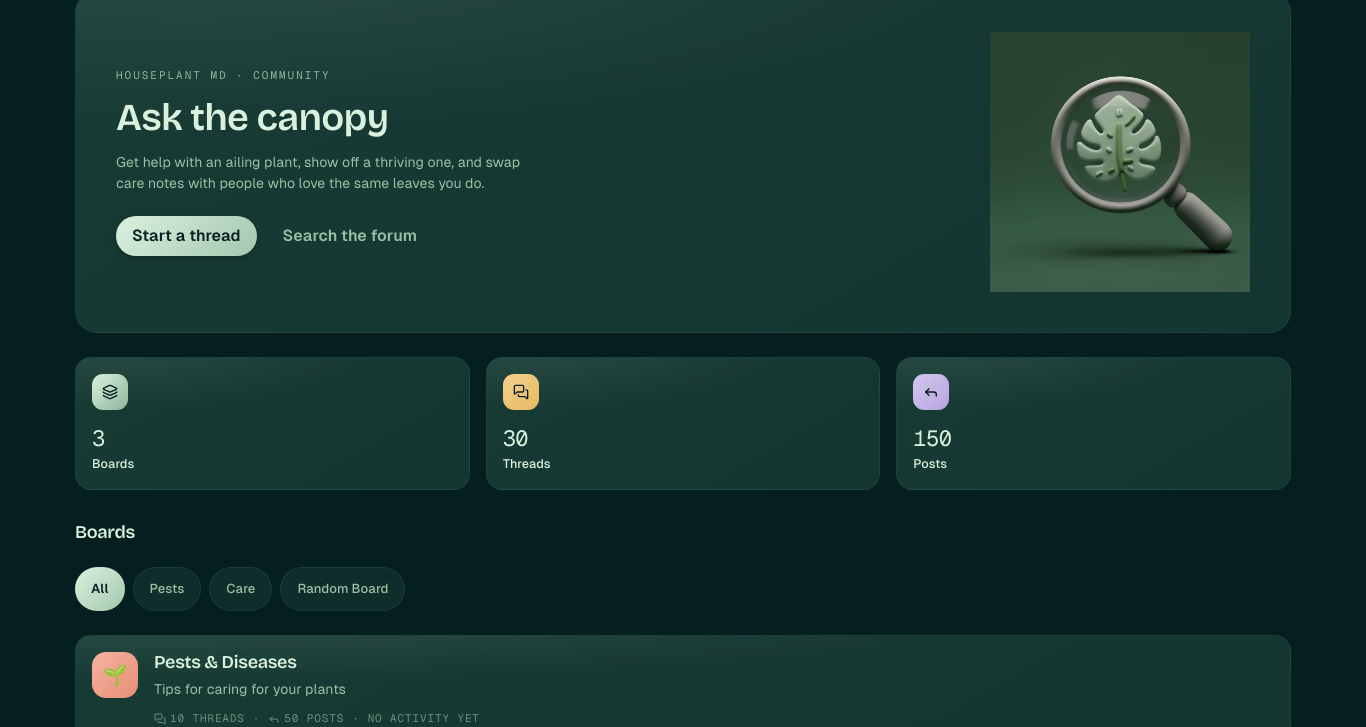
it: CategoryListPage › board filter chips › restores the full list when All is clicked after filtering
This screenshot has width=1366, height=727.
Expected: the heading "Pests & Diseases" is shown, [154,651,296,673]
Click the button "Care": (241, 589) [209,567,272,611]
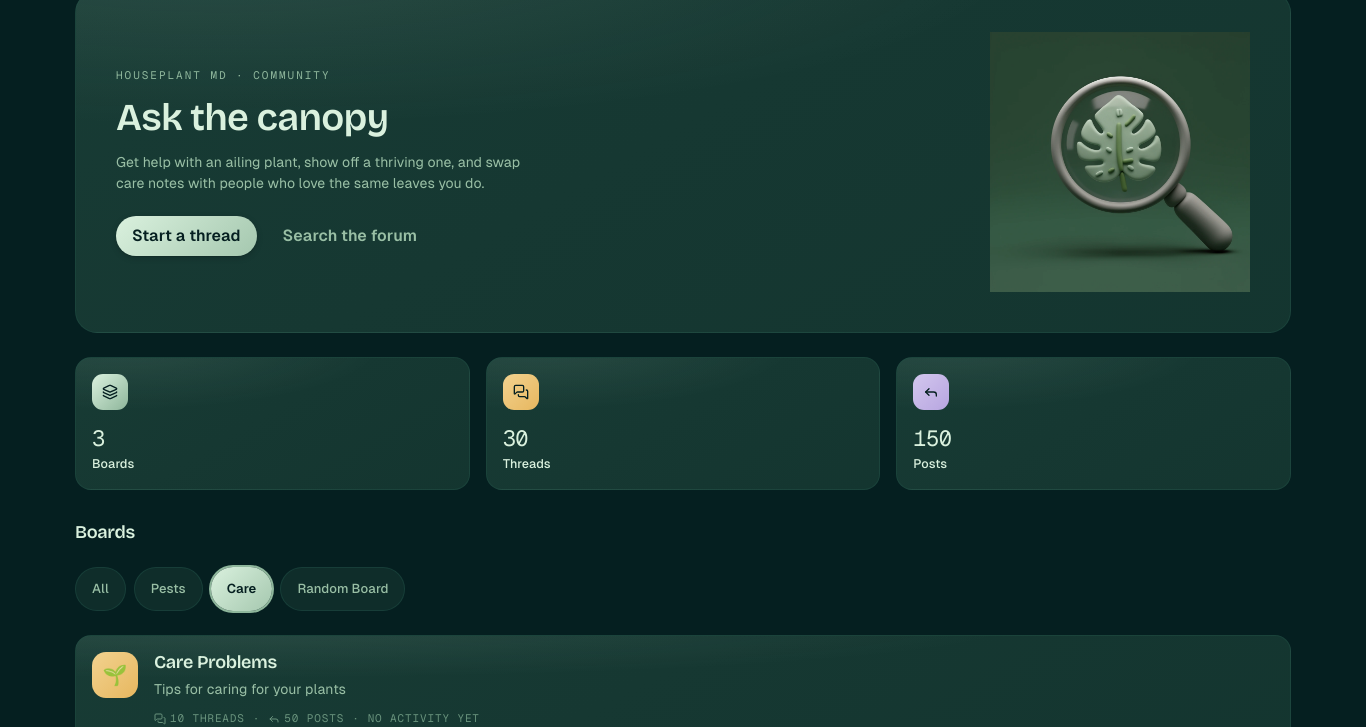
Expected: the link "Pests & Diseases" is gone
Click the button "All": (100, 589) [75,567,126,611]
(page scrolled)
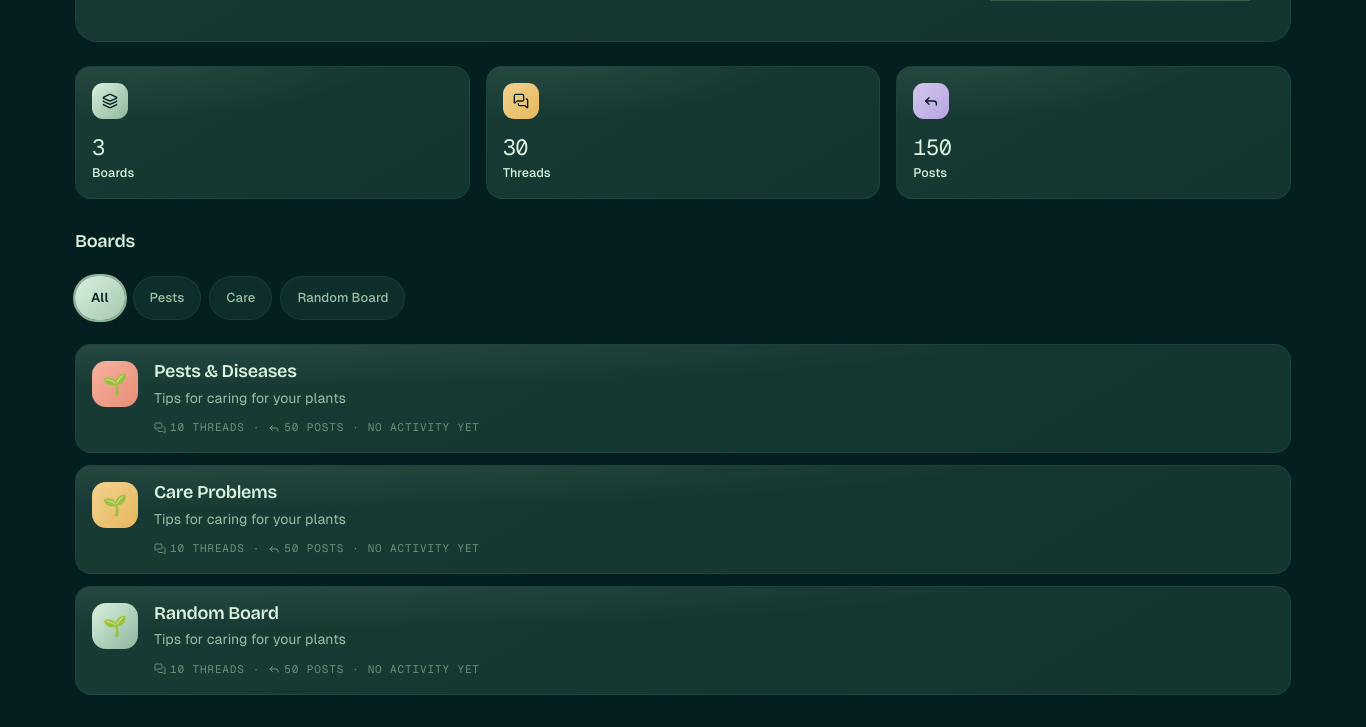
Expected: the heading "Care Problems" is shown, [154,481,277,503]
Expected: the heading "Pests & Diseases" is shown, [154,360,296,382]
Expected: the heading "Random Board" is shown, [154,602,279,624]
